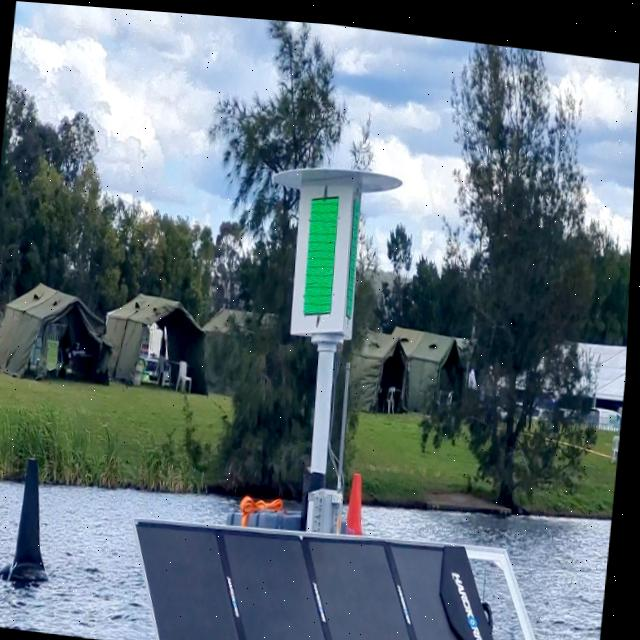led: (296, 178, 359, 327)
